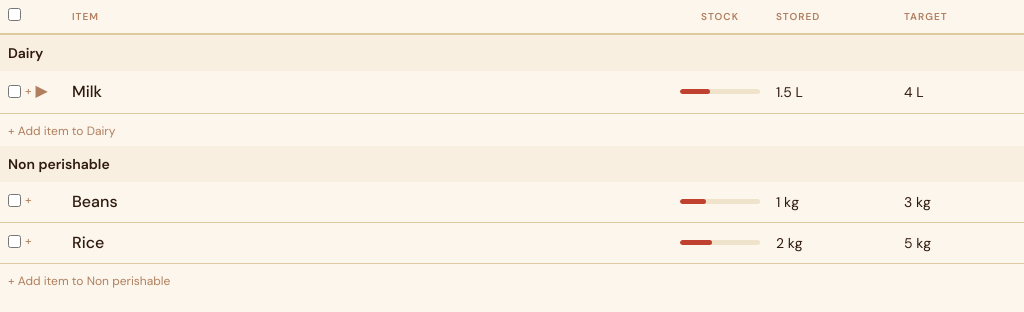
Test: InventoryTable › checkbox select + per-row trash icon › clicking an item checkbox selects it and shows the bulk delete button
Expected: the text "Rice" is shown, [72,232,104,252]
Step 1. Click the checkbox named "Select Rice" → (14, 241), box [8,234,21,248]
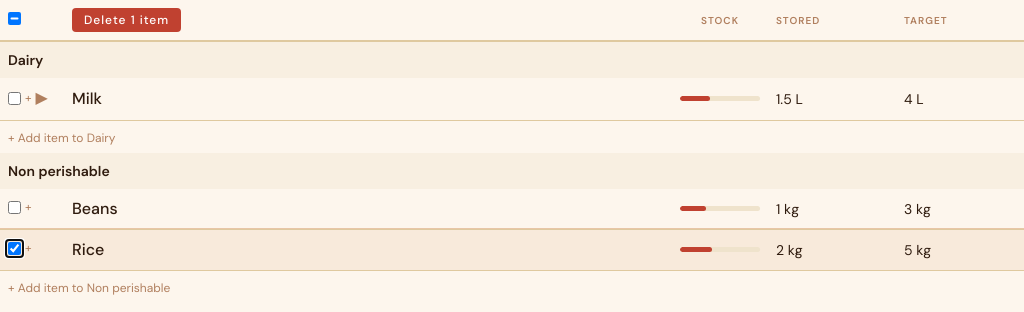
Expected: the checkbox named "Select Rice" is checked, [8,242,21,254]
Expected: the button "Delete 1 item" is shown, [72,8,181,32]
